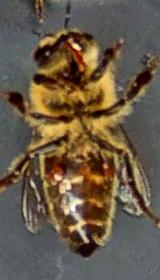varroa_mite: (97, 147, 121, 192), (42, 154, 66, 190)
